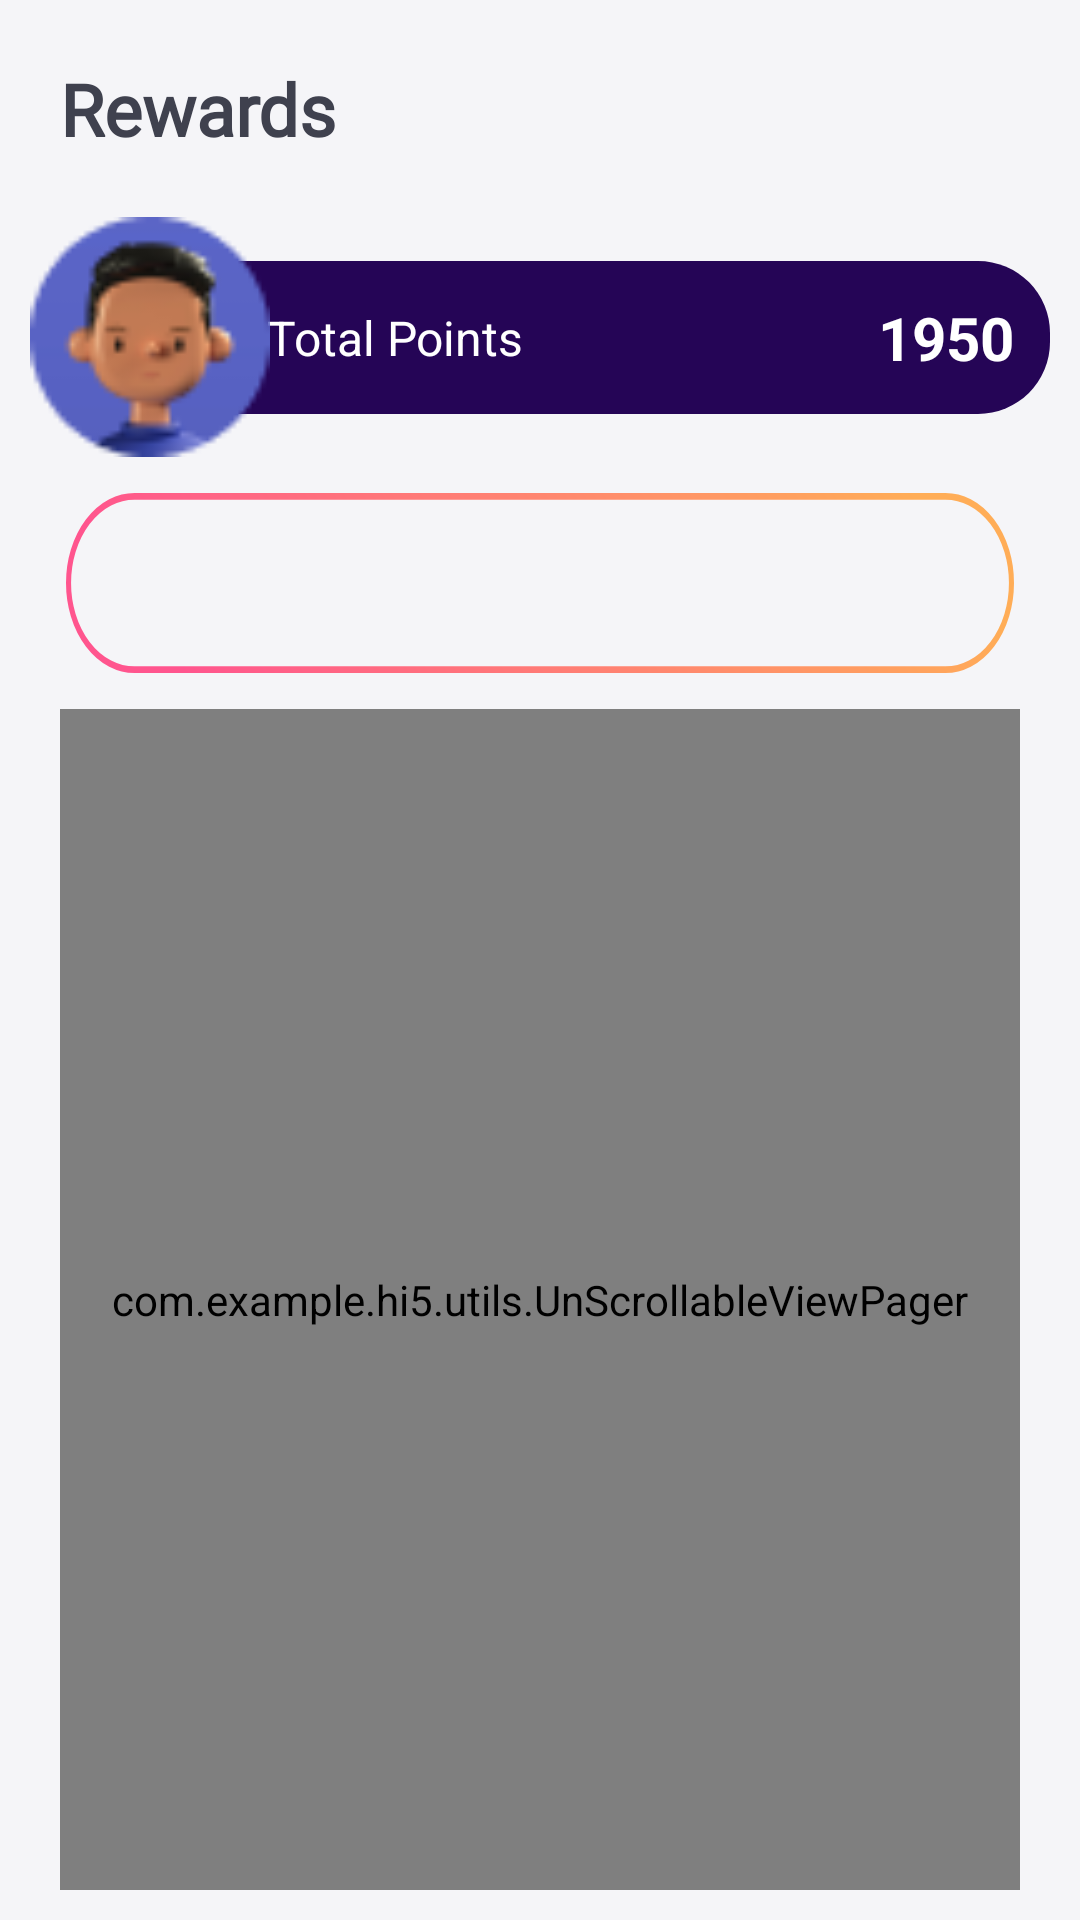

Icon click points for this 1080 × 1920 phone screenshot, format [x,y]:
profile: [150,337]
